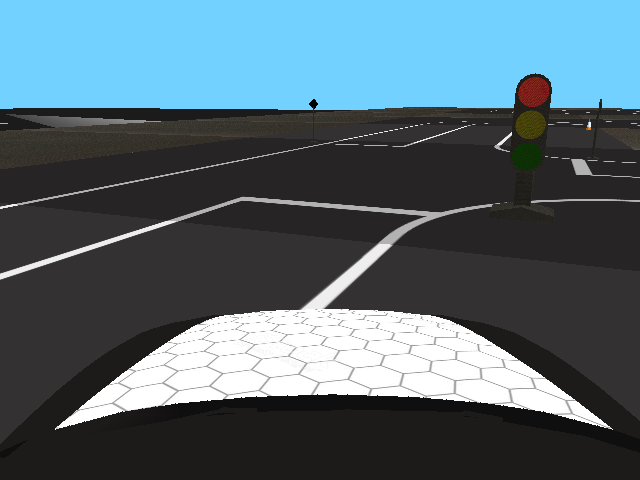red_light: (508, 71, 551, 175)
